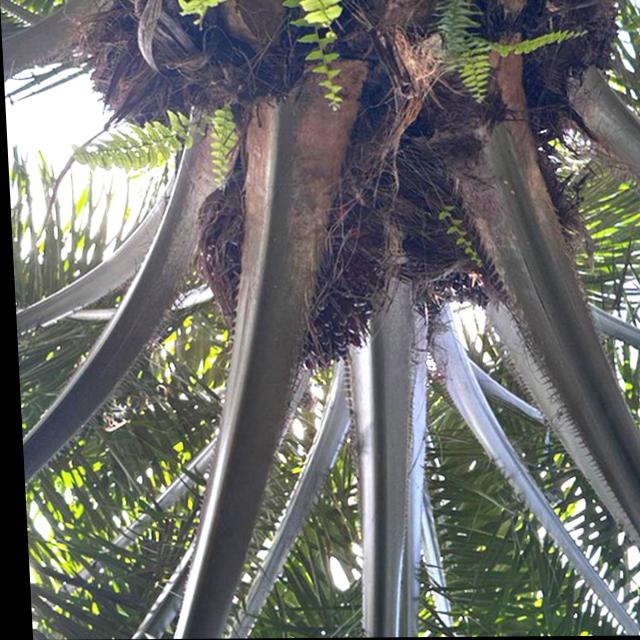ripe: (190, 183, 403, 372)
